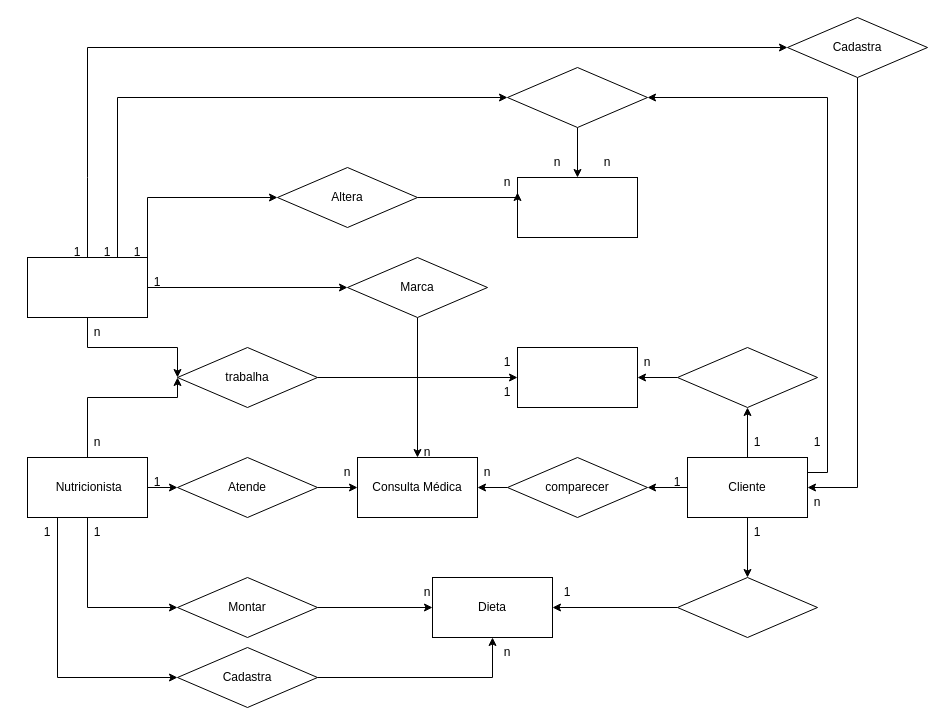
This 945x725 diagram has some shape labels left out. The shapes that lost their labels are listed below. From the top down, each one's centre as x and y in pixels, then its label:
(x=577, y=97): Consulta
(x=577, y=207): Informações
(x=87, y=287): Recepcionista
(x=577, y=377): Clinica
(x=747, y=377): procura
(x=747, y=607): Faz
